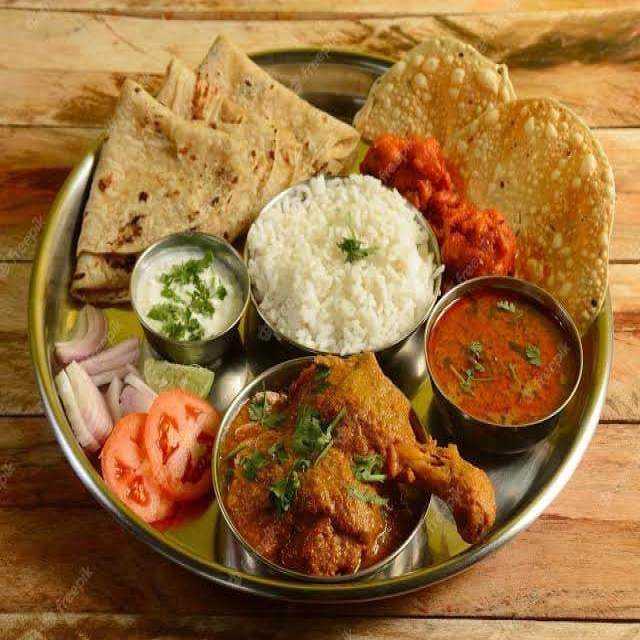non veg meals: (37, 21, 631, 605)
